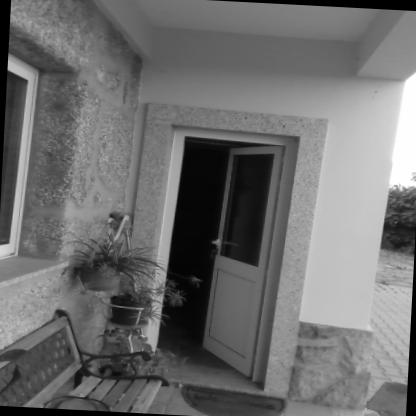semi: (124, 114, 309, 394)
